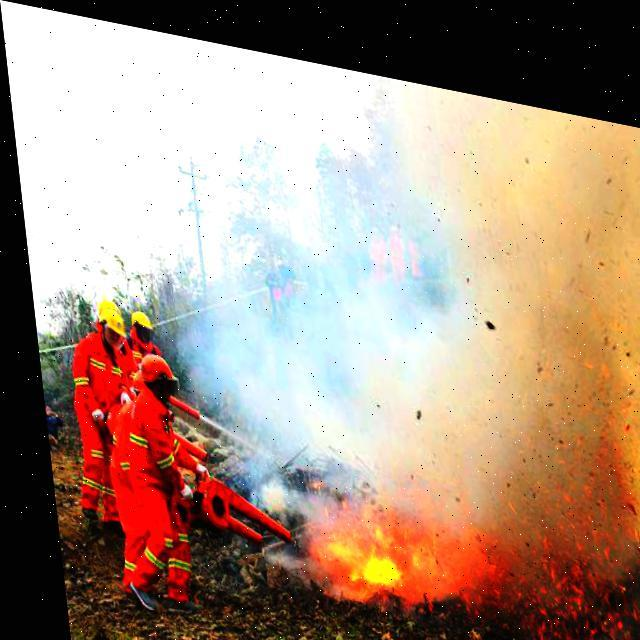Fire: (298, 480, 639, 639)
